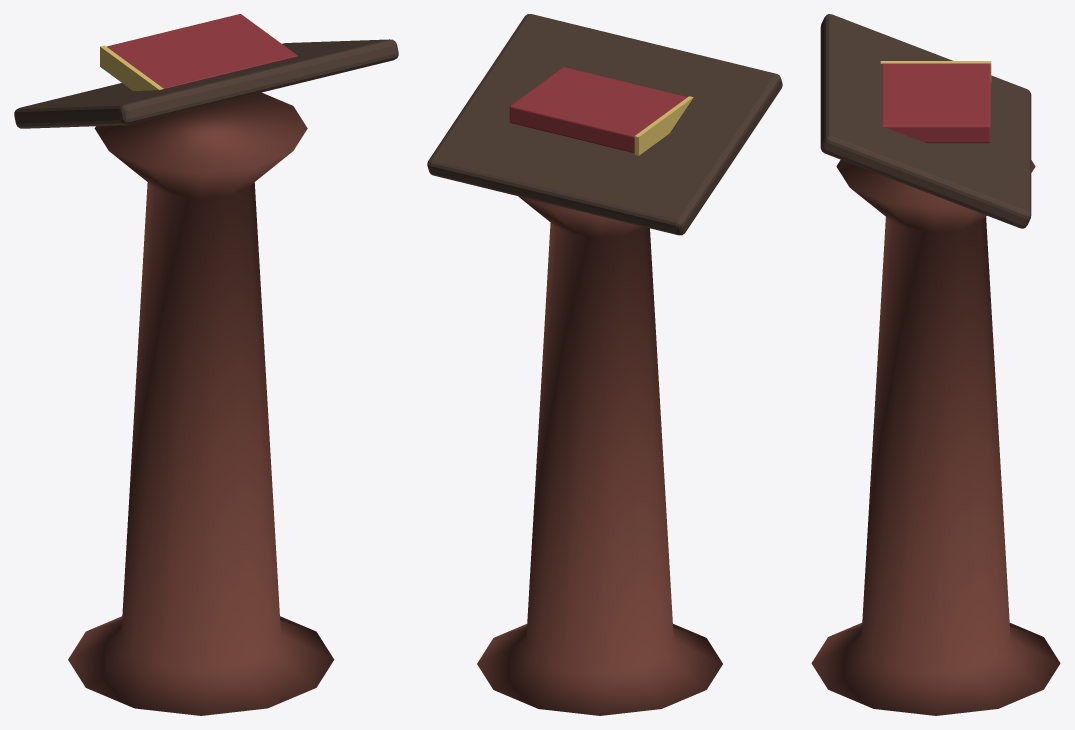
File: podium_teacher_lectern.glb
The picture shows the model from 3 angles, left to right: view 1: azimuth 30°, elevation 25°; view 2: azimuth 150°, elevation 25°; view 3: azimuth 270°, elevation 25°; orthographic projection. The views are drawn at different scales.
Visible parts, largest first — view 1: GD_podium_teacher_lectern__m0, GD_podium_teacher_lectern__m1, GD_podium_teacher_lectern__m2, GD_podium_teacher_lectern__m4; view 2: GD_podium_teacher_lectern__m0, GD_podium_teacher_lectern__m1, GD_podium_teacher_lectern__m2, GD_podium_teacher_lectern__m4; view 3: GD_podium_teacher_lectern__m0, GD_podium_teacher_lectern__m1, GD_podium_teacher_lectern__m2.
Boxes of the visible parts, x1,y1,x2,y2 form: GD_podium_teacher_lectern__m0: (68, 92, 334, 715); GD_podium_teacher_lectern__m1: (14, 39, 398, 128); GD_podium_teacher_lectern__m2: (106, 14, 297, 88); GD_podium_teacher_lectern__m4: (100, 45, 163, 90); GD_podium_teacher_lectern__m0: (477, 196, 722, 715); GD_podium_teacher_lectern__m1: (427, 14, 782, 235); GD_podium_teacher_lectern__m2: (509, 67, 687, 153); GD_podium_teacher_lectern__m4: (634, 96, 693, 155); GD_podium_teacher_lectern__m0: (811, 160, 1060, 715); GD_podium_teacher_lectern__m1: (820, 14, 1031, 228); GD_podium_teacher_lectern__m2: (882, 63, 990, 143).
Size of the model in its own units: 0.6 by 1.3 by 0.5.
